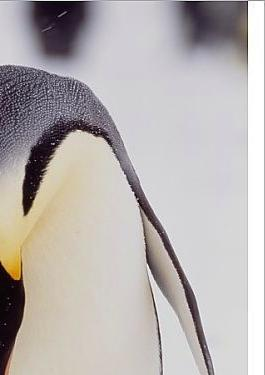Emperor Penguin: (0, 63, 262, 375)
